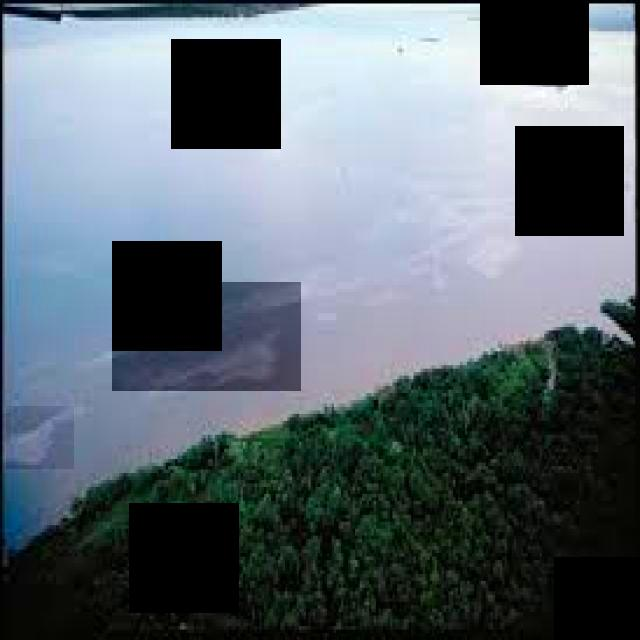oil spill: (112, 282, 301, 391), (7, 407, 74, 469)
